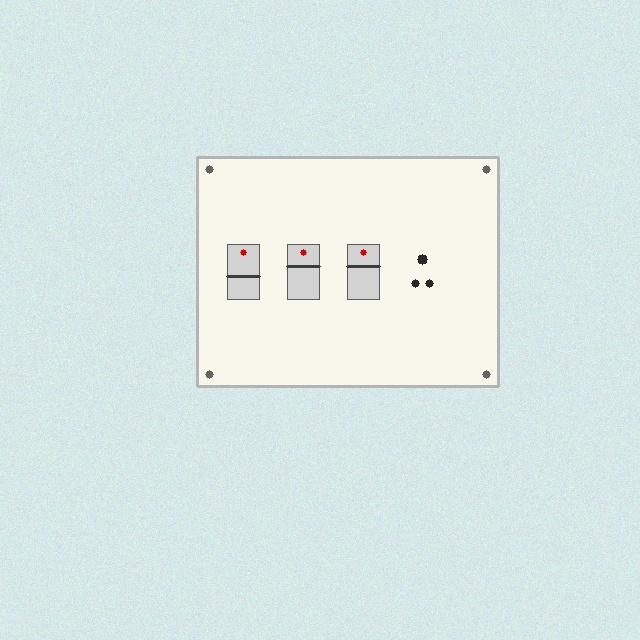switchboard: (197, 157, 498, 386)
